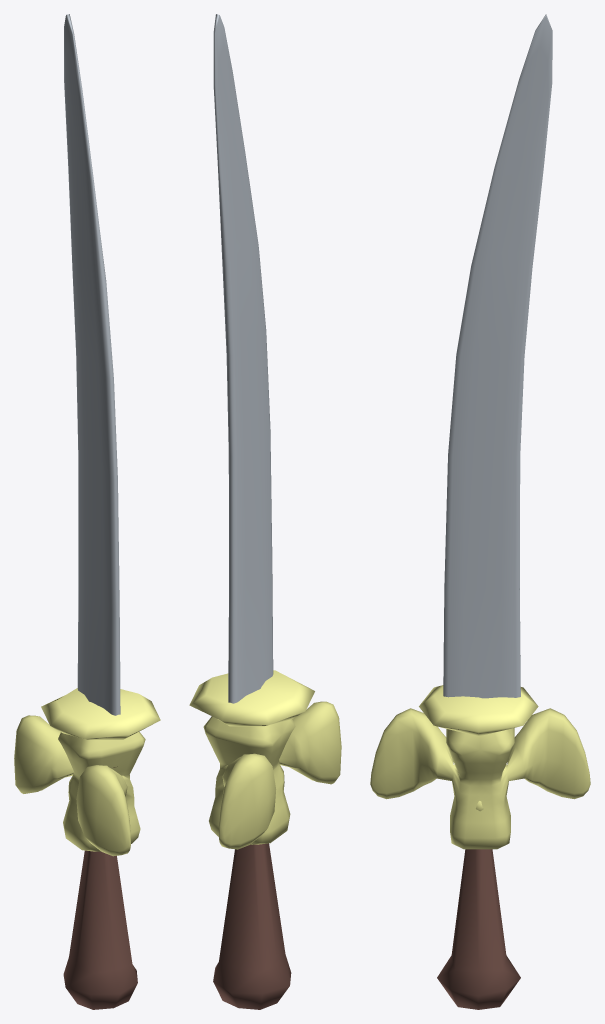
Rendered from AngelSword.fbx.
The picture shows the model from 3 angles, left to right: view 1: azimuth 30°, elevation 25°; view 2: azimuth 150°, elevation 25°; view 3: azimuth 270°, elevation 25°; orthographic projection. The views are drawn at different scales.
Visible parts, largest first — view 1: Katana1; view 2: Katana1; view 3: Katana1.
Part boxes in pixels (<box>): Katana1: <box>14,14,160,1009</box>; Katana1: <box>189,14,341,1009</box>; Katana1: <box>370,14,590,1009</box>.
Bounding box in the file's own units: 1.23 × 11.12 × 2.26.
